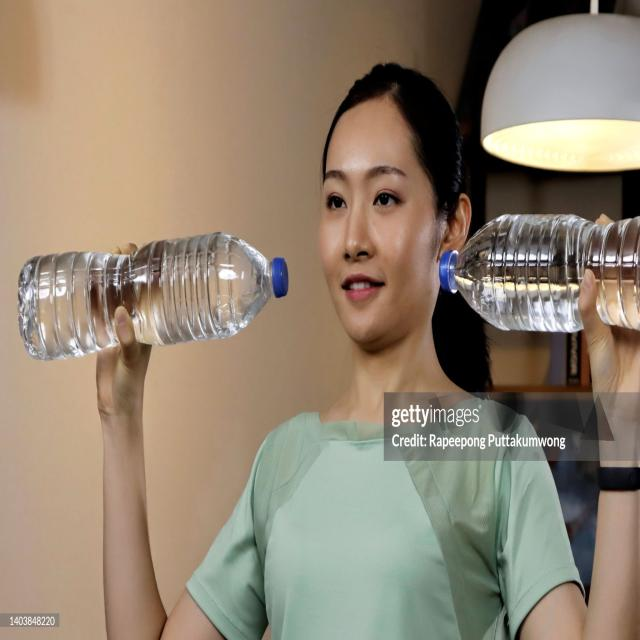bottle: (17, 228, 292, 360), (438, 208, 640, 338)
